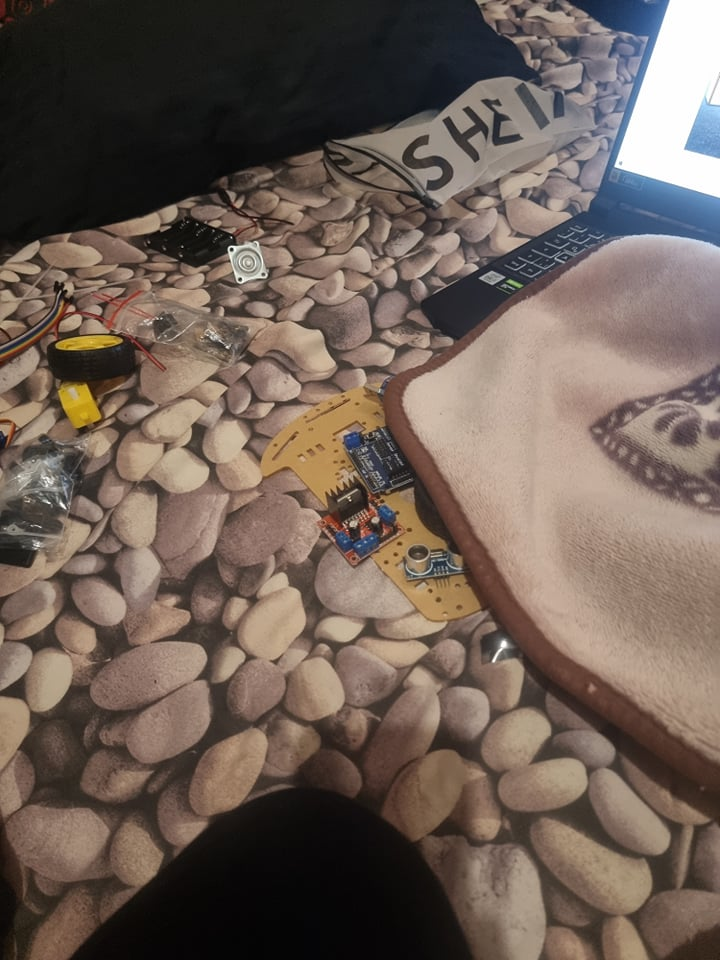5V EXPANSION: (342, 424, 416, 494)
BATTERY BOX: (147, 212, 233, 267)
MOTOR: (316, 478, 401, 568)
SENSOR: (403, 540, 470, 575)
